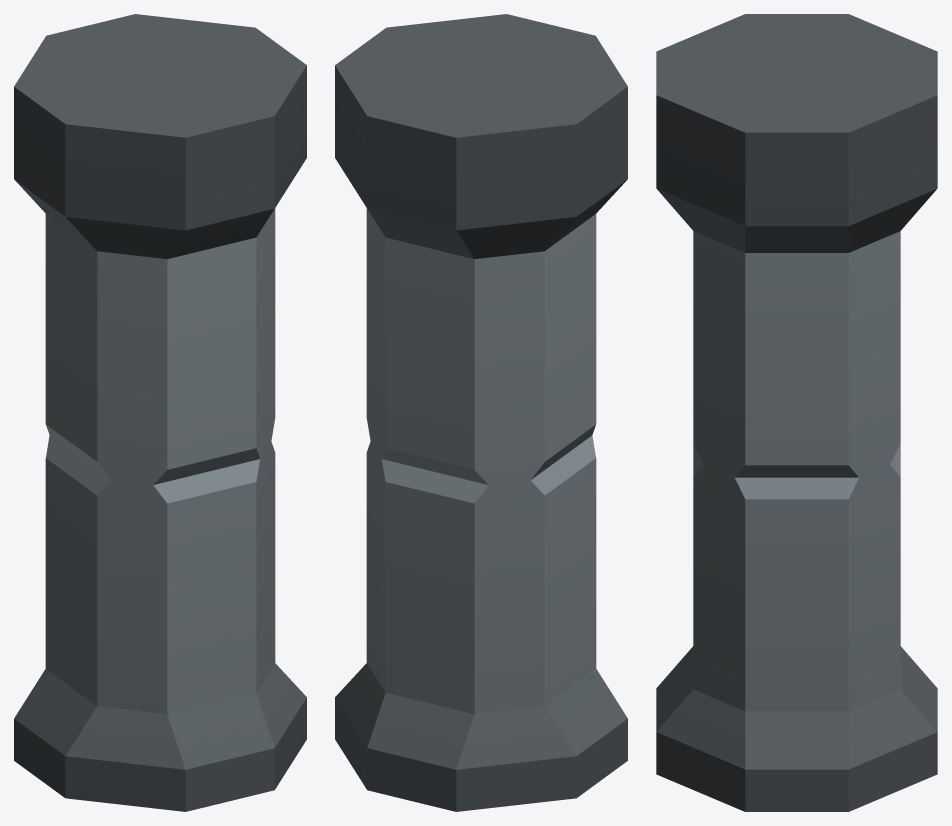
File: pillar.fbx
The picture shows the model from 3 angles, left to right: view 1: azimuth 30°, elevation 25°; view 2: azimuth 150°, elevation 25°; view 3: azimuth 270°, elevation 25°; orthographic projection.
Visible parts, largest first — view 1: pillar; view 2: pillar; view 3: pillar.
Boxes of the visible parts, left/top/right/bottom form: pillar: left=14, top=14, right=306, bottom=811; pillar: left=335, top=14, right=627, bottom=811; pillar: left=656, top=14, right=937, bottom=811.
Bounding box in the file's own units: 150 × 400 × 150.
1 material, 1 textured.
